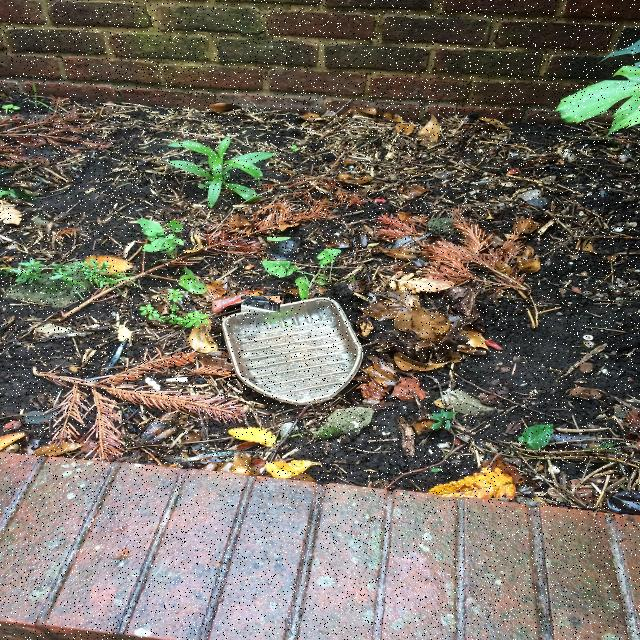Disposable food container: (222, 297, 363, 405)
Other plastic bottle: (267, 237, 300, 261), (241, 297, 280, 312)
Plastic film: (103, 339, 127, 373), (182, 450, 234, 462)
